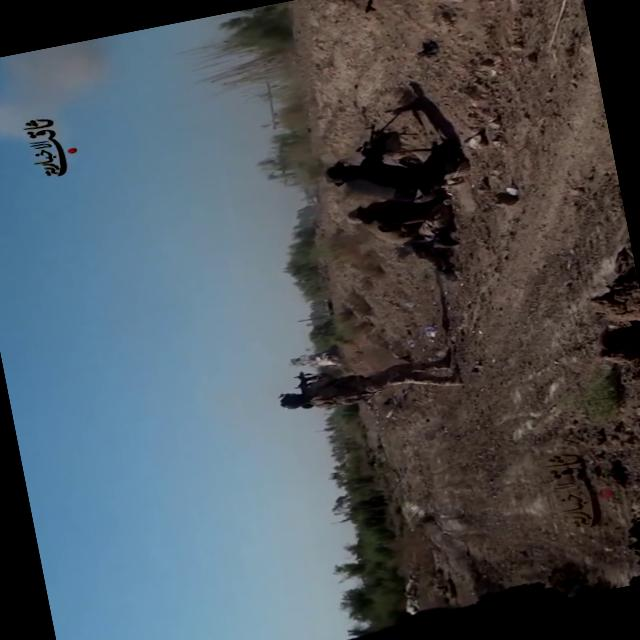long weapon: (351, 110, 422, 164)
